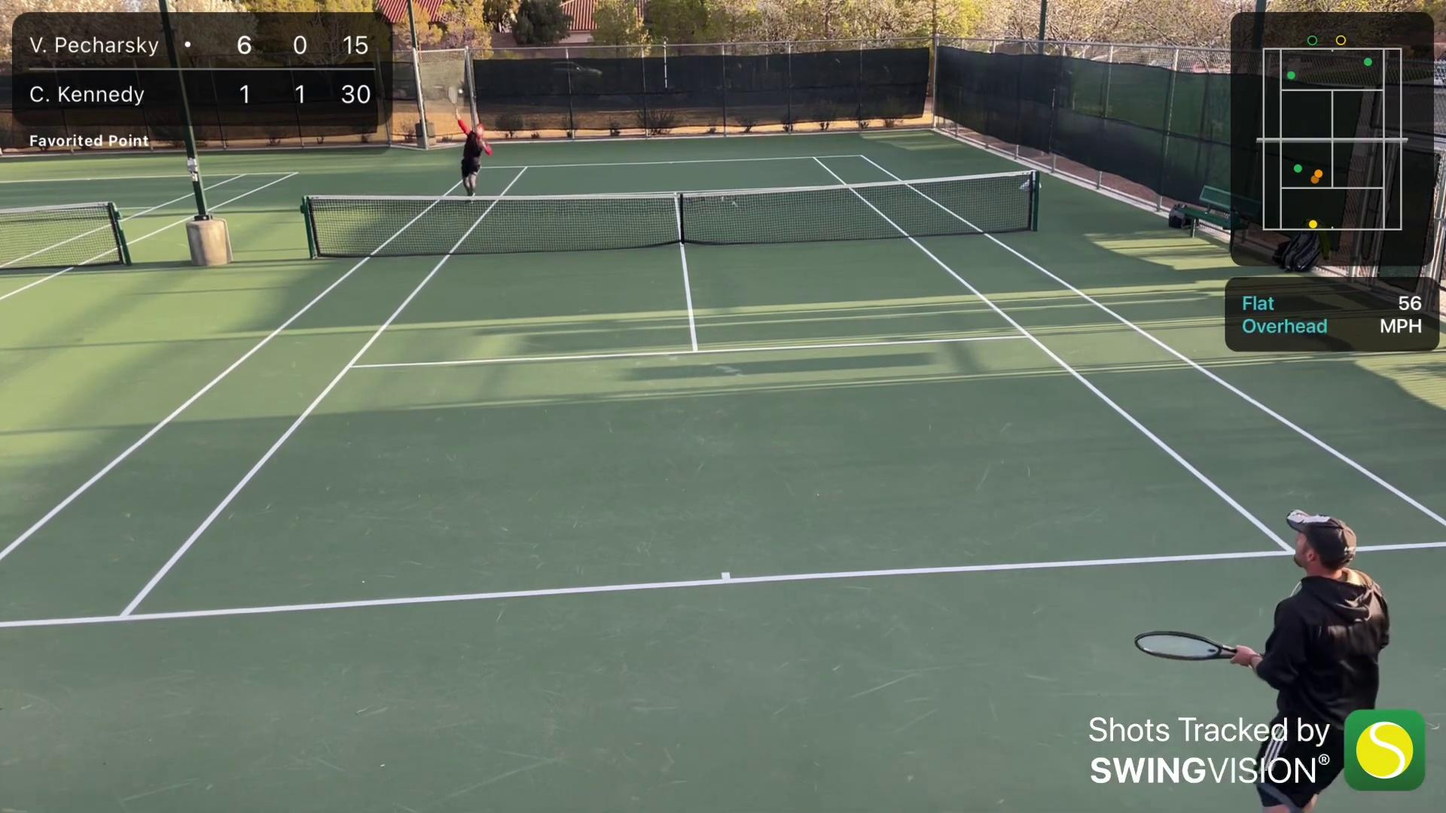ball: (458, 89, 464, 96)
